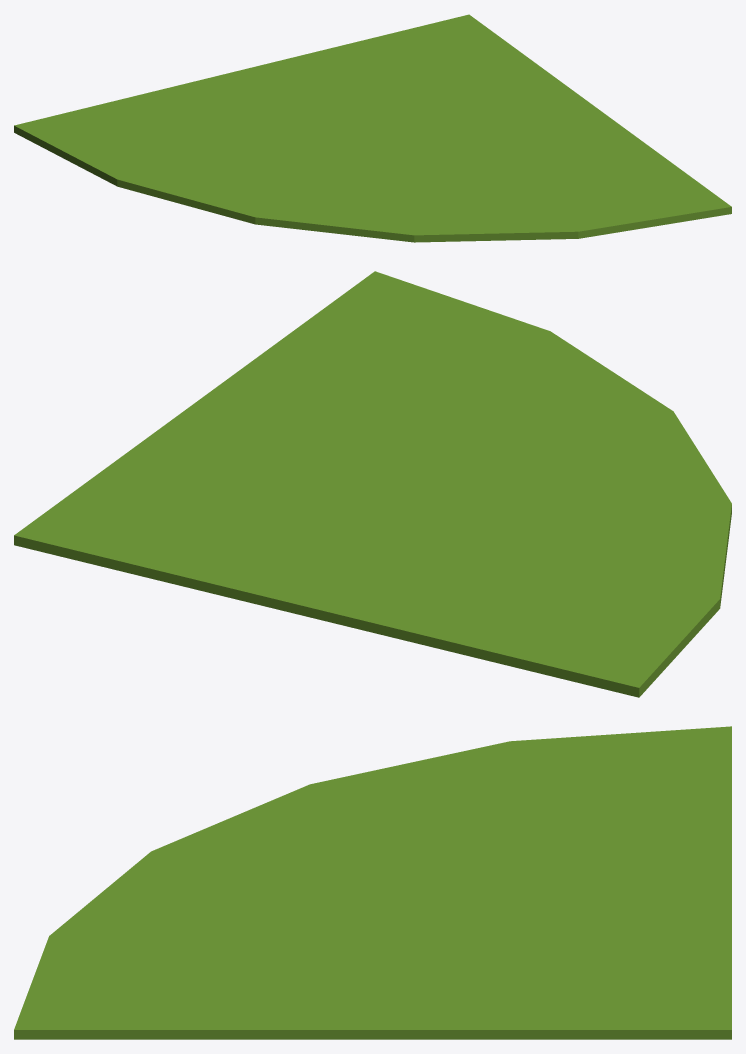
File: SM_lawn_09.glb
The picture shows the model from 3 angles, top to bottom: view 1: azimuth 30°, elevation 25°; view 2: azimuth 150°, elevation 25°; view 3: azimuth 270°, elevation 25°; orthographic projection. The views are drawn at different scales.
Parts seen in each view (by area): view 1: SM_lawn_09; view 2: SM_lawn_09; view 3: SM_lawn_09.
Boxes of the visible parts, x1=… form: SM_lawn_09: x1=14, y1=14, x2=731, y2=242; SM_lawn_09: x1=14, y1=271, x2=731, y2=697; SM_lawn_09: x1=14, y1=726, x2=731, y2=1039.
Size of the model in its own units: 2 by 0.03 by 2.
Materials: 1 (1 with a texture image).
